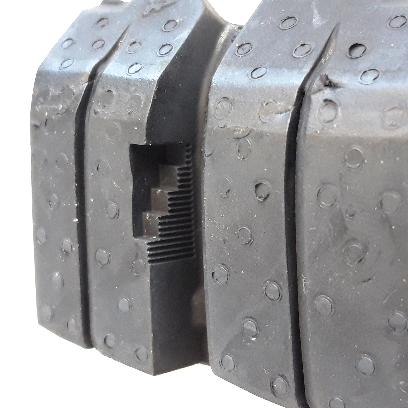temoin:100: (128, 141, 200, 268)
